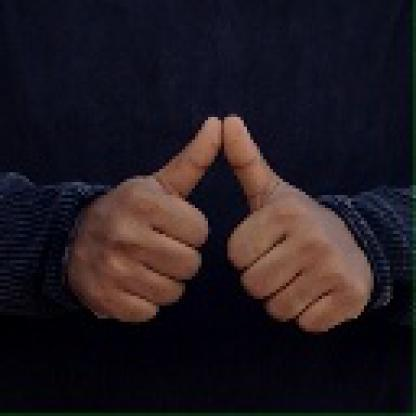A: (68, 112, 379, 332)
